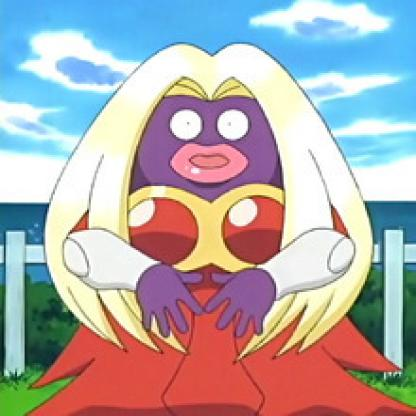Jynx: (61, 39, 392, 416)
